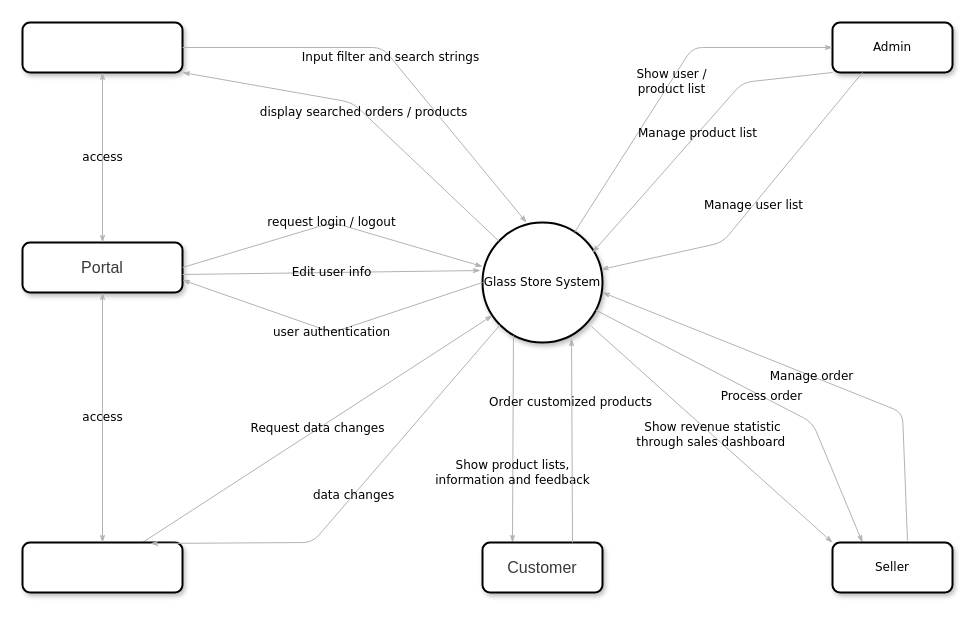
Image size: 976x617. Some labels were removed from this diagram. The centre of each missing label's shape, as x and y in pixels:
"Manager System" belongs at point 103,568.
"Storefront System" belongs at point 103,48.
